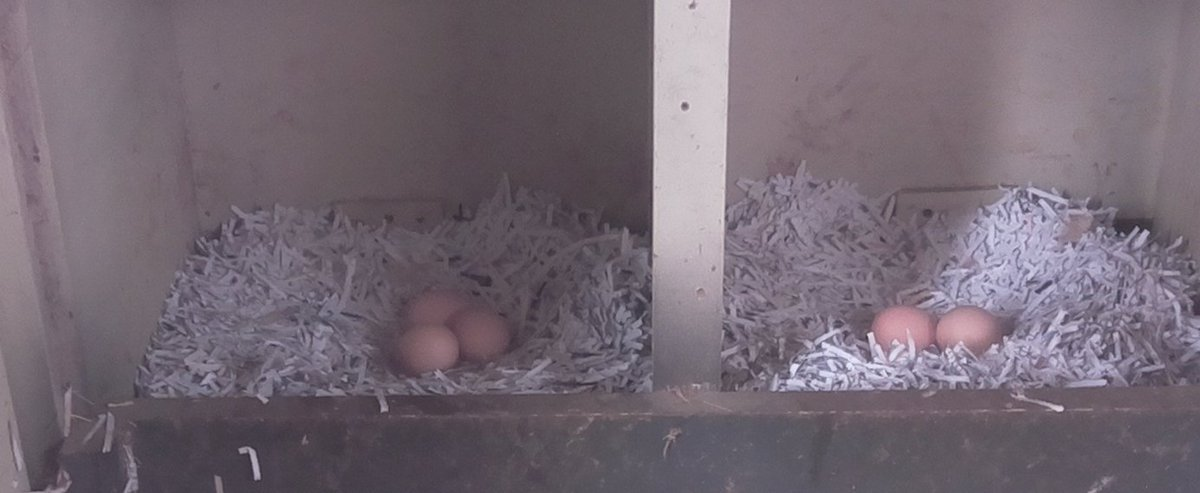egg: (933, 305, 1006, 363), (453, 304, 515, 368), (868, 302, 939, 357), (393, 321, 461, 377), (399, 288, 479, 324)
